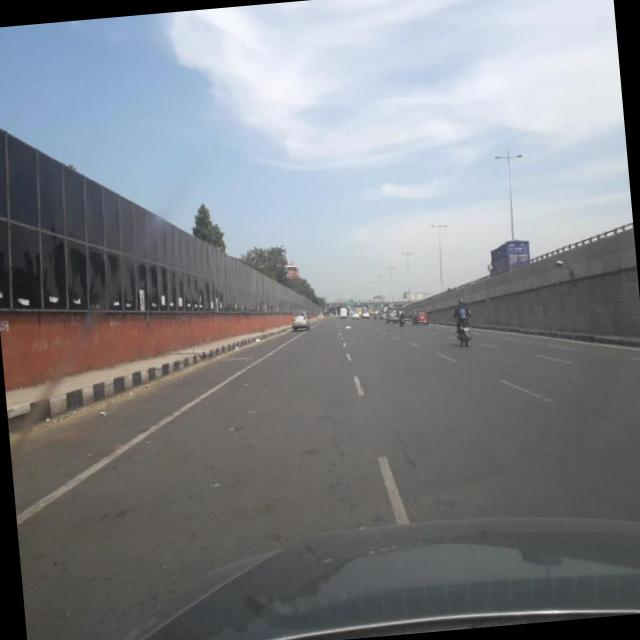crack: (391, 423, 419, 472)
